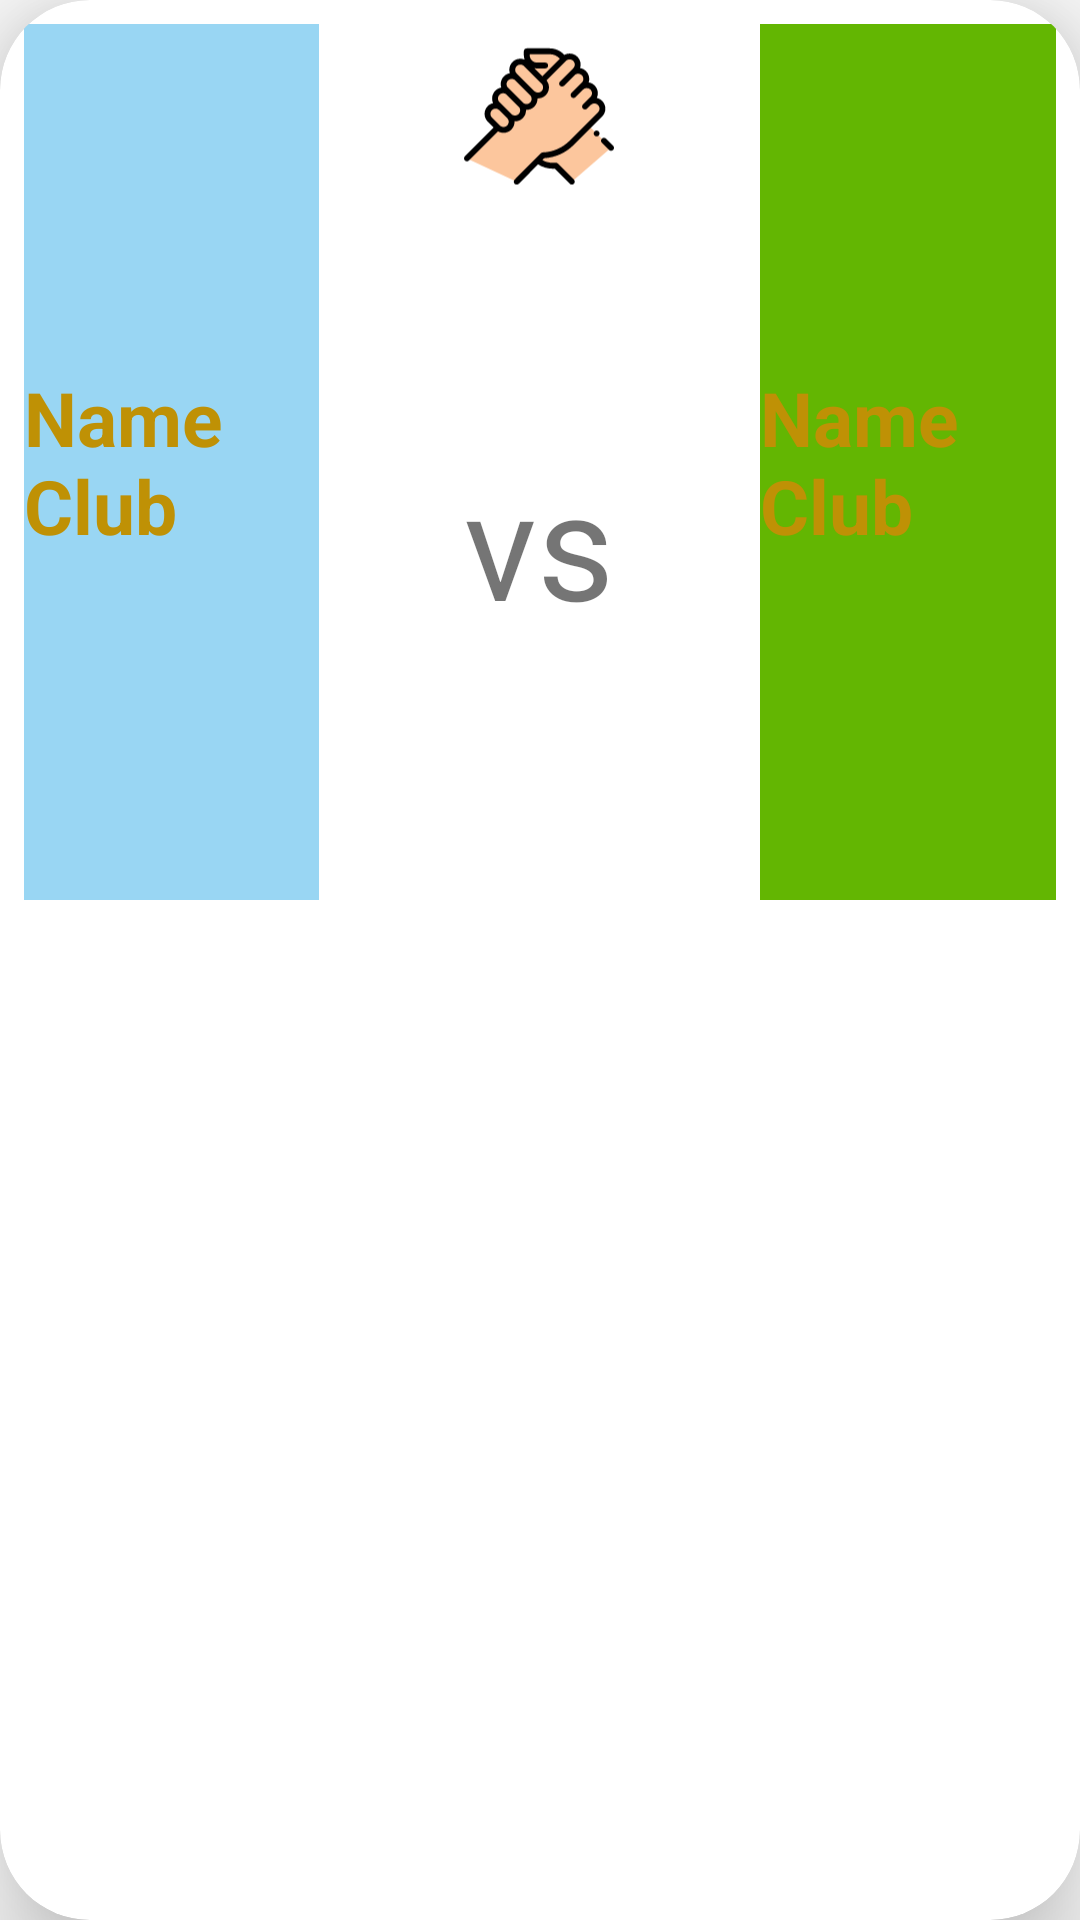

Icons on this 1080px×1920px Android screen, each with its box as (x1, y1, x2, y2):
support: (464, 47, 614, 185)
